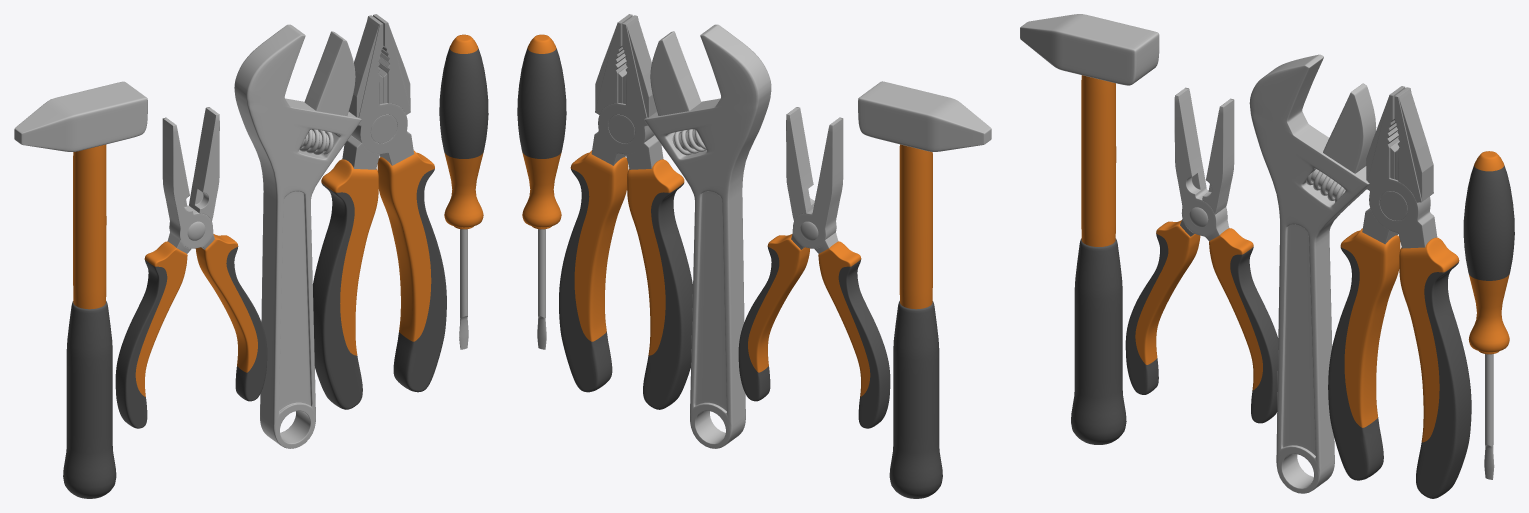
File: bo dung cu sua chua.fbx
3 renders of one model, left to right at view 1: azimuth 30°, elevation 25°; view 2: azimuth 150°, elevation 25°; view 3: azimuth 330°, elevation 25°, orthographic. The views are drawn at different scales.
Parts seen in each view (by area): view 1: ca_le, bua1, polySurface11, pCube14, polySurface19, pPlane9, pCylinder1, pCylinder2; view 2: ca_le, bua1, polySurface11, pCube14, polySurface19, pPlane9, pCylinder1, pCylinder2; view 3: ca_le, bua1, polySurface11, pCube14, pPlane9, pCylinder1, polySurface19, pCylinder2.
Part boxes in pixels (x1,y1,x2,y2): ca_le: (234, 24, 361, 448); bua1: (14, 81, 147, 498); polySurface11: (348, 15, 446, 392); pCube14: (313, 14, 410, 409); polySurface19: (115, 107, 219, 428); pPlane9: (162, 117, 267, 401); pCylinder1: (439, 34, 488, 229); pCylinder2: (459, 229, 468, 349); ca_le: (644, 24, 771, 448); bua1: (858, 81, 991, 498); polySurface11: (559, 15, 656, 392); pCube14: (595, 14, 692, 409); polySurface19: (786, 107, 890, 428); pPlane9: (738, 117, 843, 401); pCylinder1: (517, 34, 566, 229); pCylinder2: (537, 229, 546, 349); ca_le: (1249, 54, 1376, 493); bua1: (1020, 14, 1159, 444); polySurface11: (1365, 86, 1471, 498); pCube14: (1328, 87, 1433, 480); pPlane9: (1174, 87, 1278, 423); pCylinder1: (1463, 151, 1514, 354); polySurface19: (1125, 98, 1234, 394); pCylinder2: (1484, 354, 1494, 479).
Bounding box in the file's own units: 11.25 × 9.49 × 1.11.
